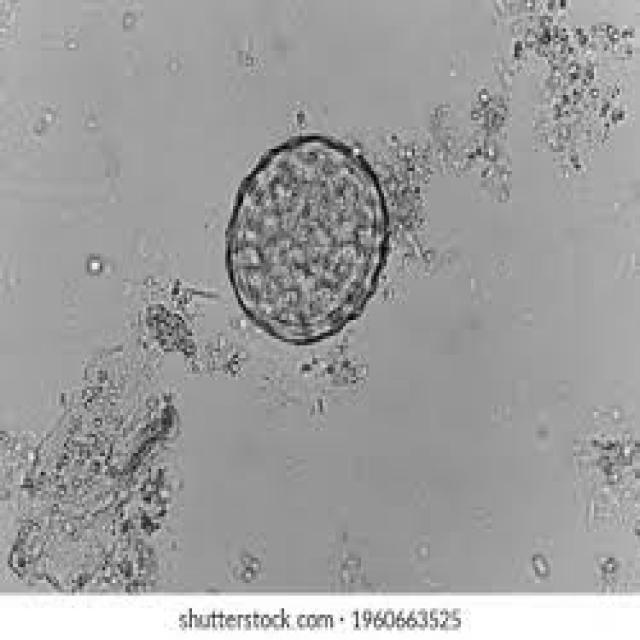Ascaris Lumbricoides: (214, 120, 400, 355)
